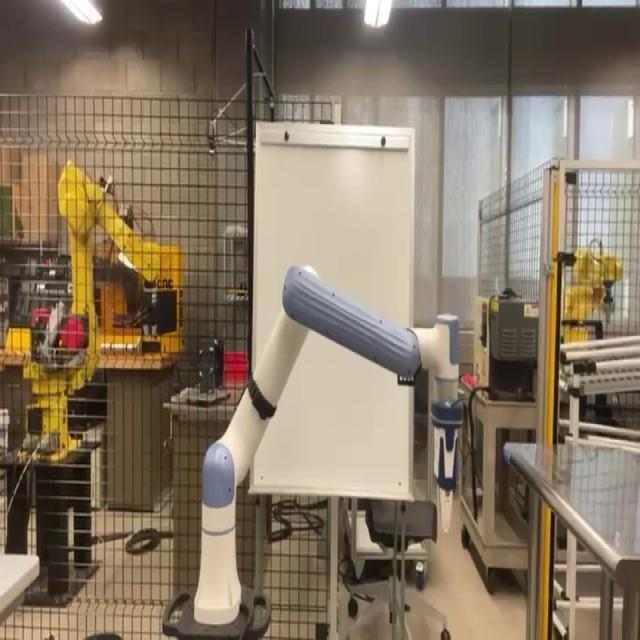robot: (160, 262, 462, 638)
